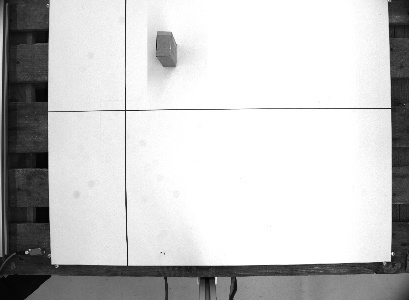b1: (152, 29, 179, 68)
